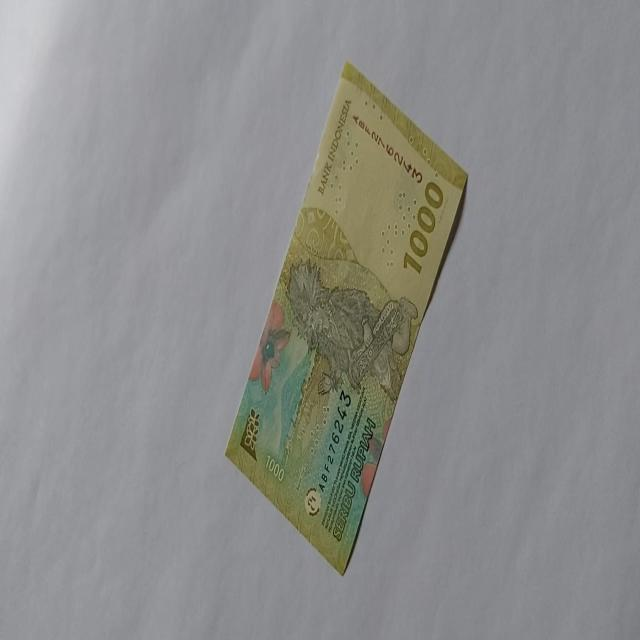seribu rupiah kertas: (224, 59, 468, 576)
